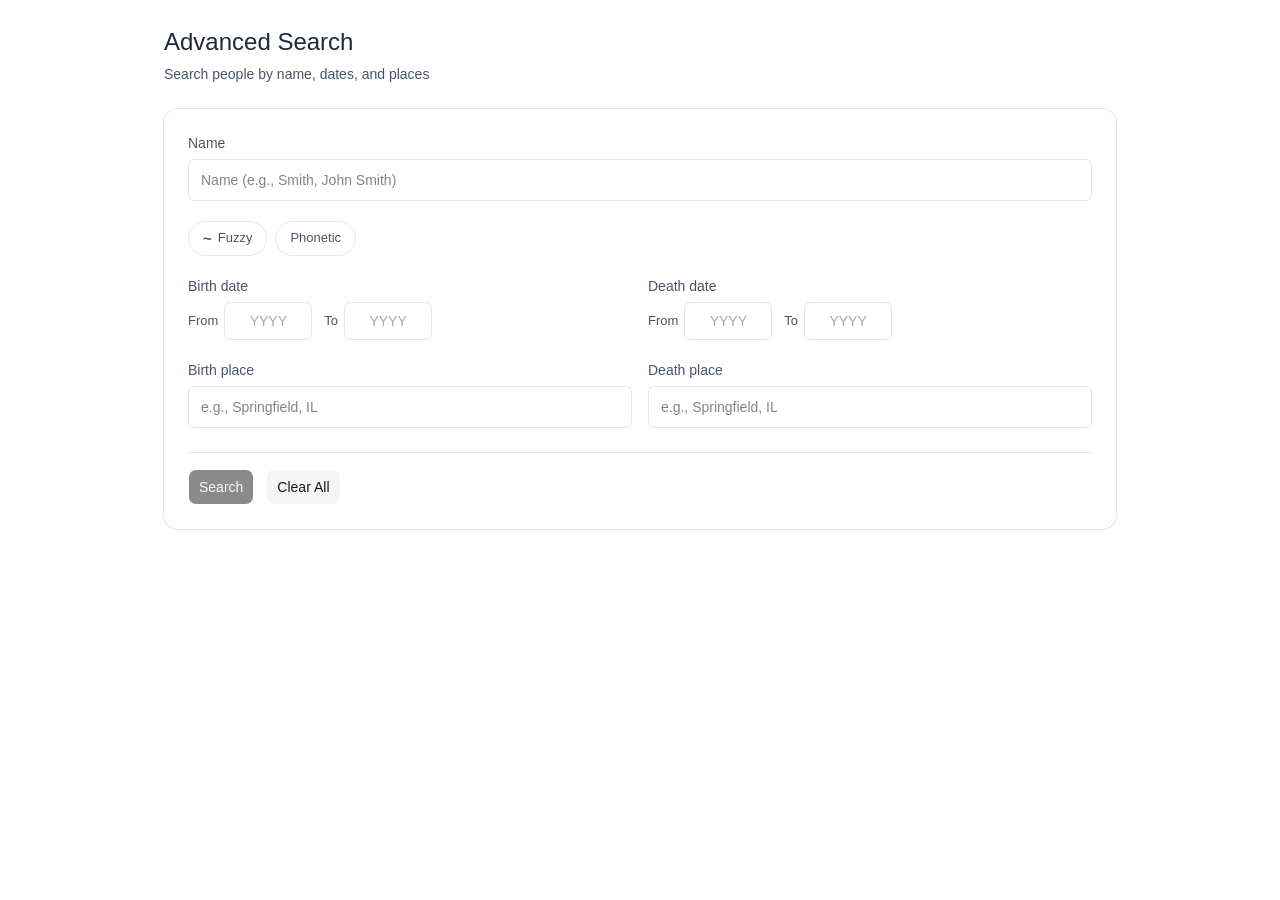
Test: Advanced Search Page › Form Interactions › Clear All also clears results
This screenshot has width=1280, height=900.
// Perform a search first
Type "Smith" into the field with placeholder "Name (e.g., Smith, John Smith)".
click(640, 180); type("Smith")  # box top-left (188, 159), bottom-right (1092, 201)
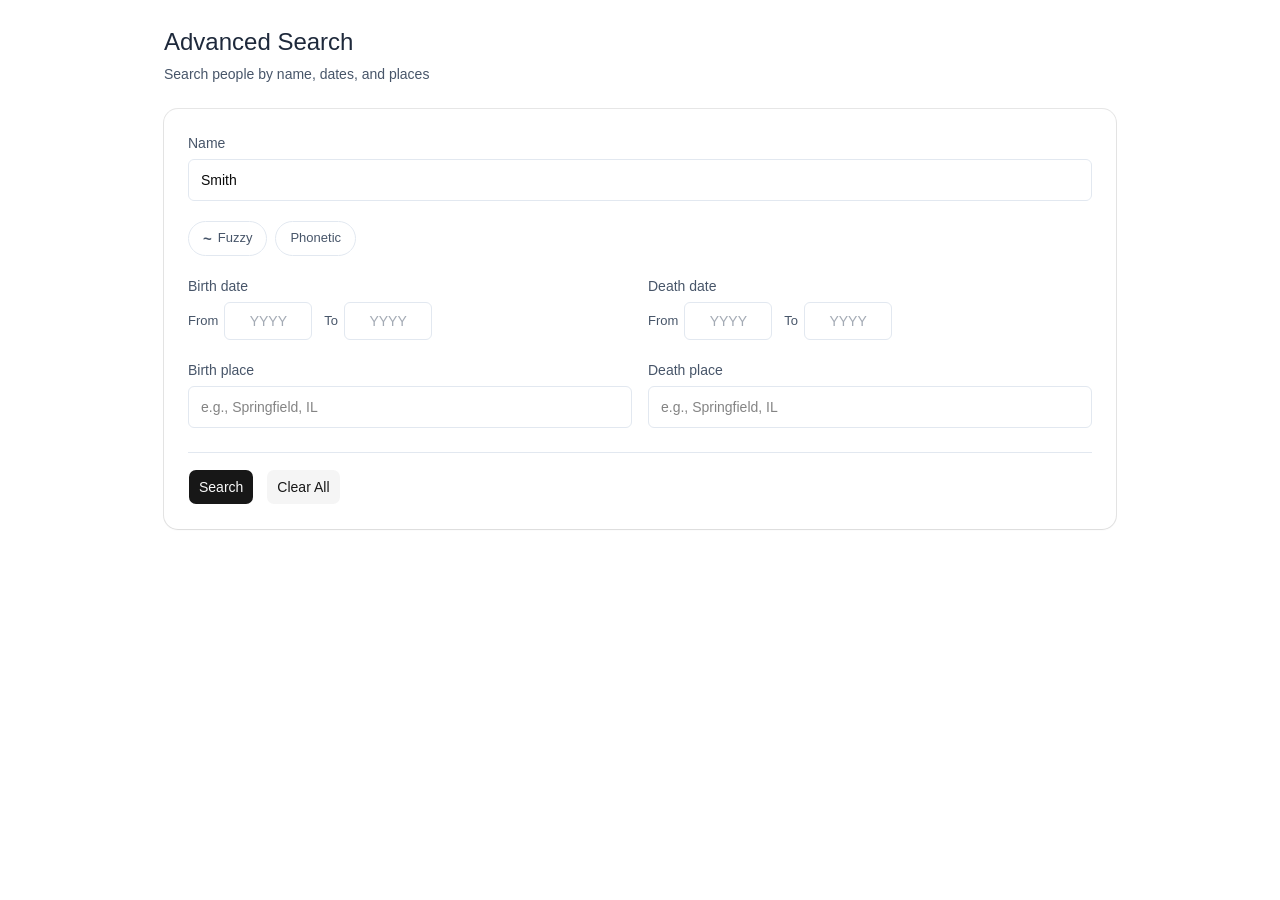
Click the button "Search".
click(221, 487)  # box top-left (188, 469), bottom-right (254, 505)
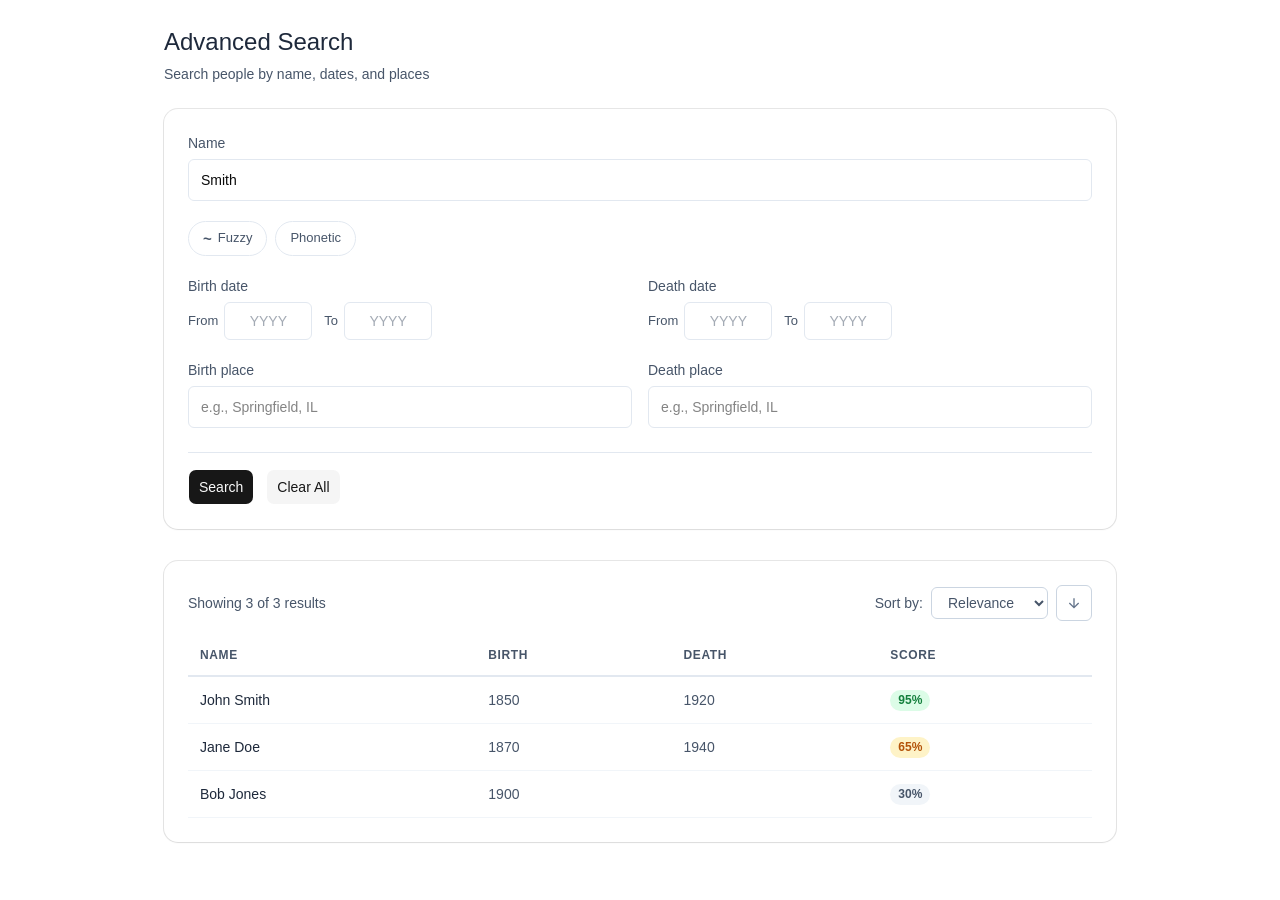
Now the text "Showing 3 of 3 results" is shown, box top-left (188, 593), bottom-right (326, 613)
// Click Clear All
Click the button "Clear All".
click(303, 487)  # box top-left (266, 469), bottom-right (340, 505)
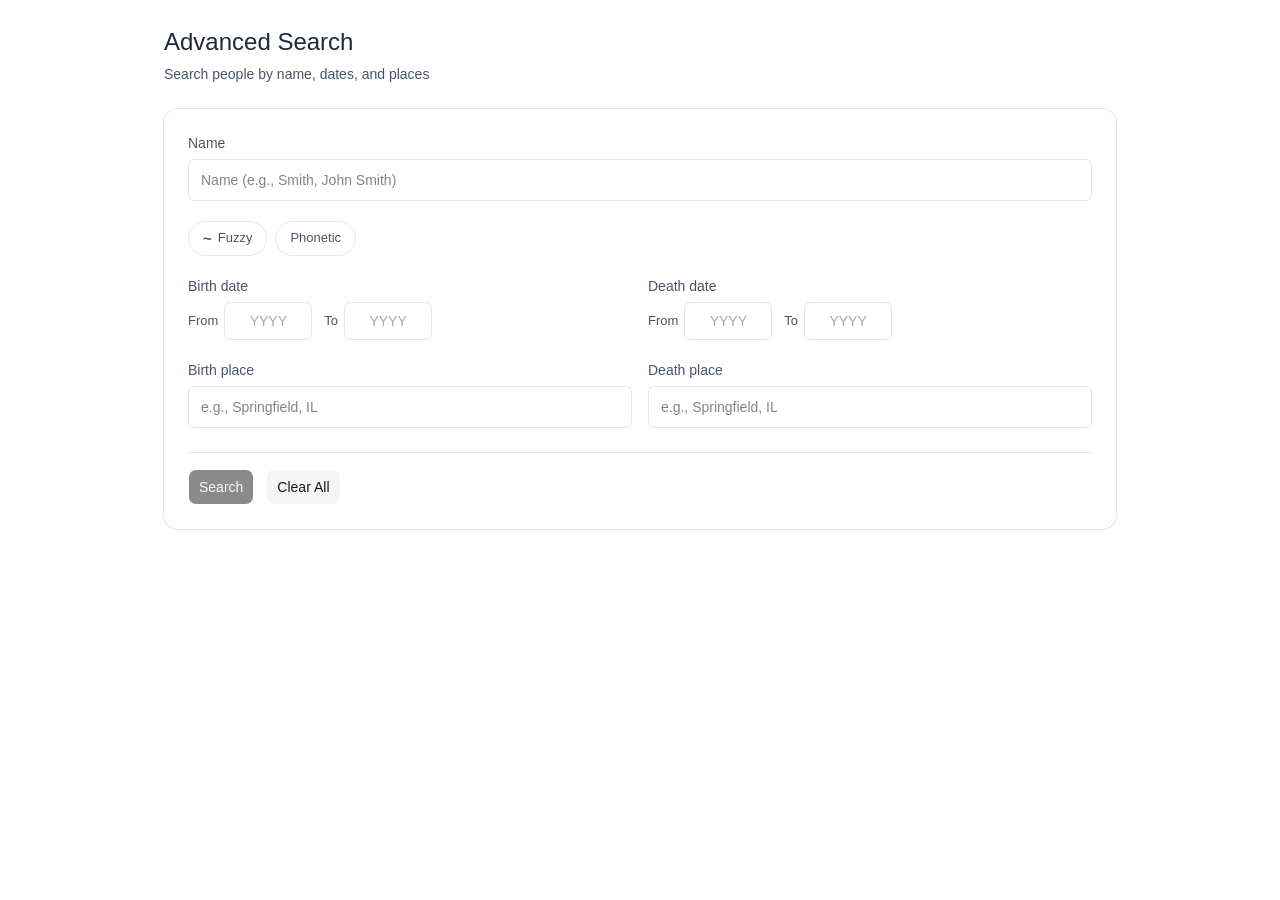
Now the text "Showing 3 of 3 results" is gone
